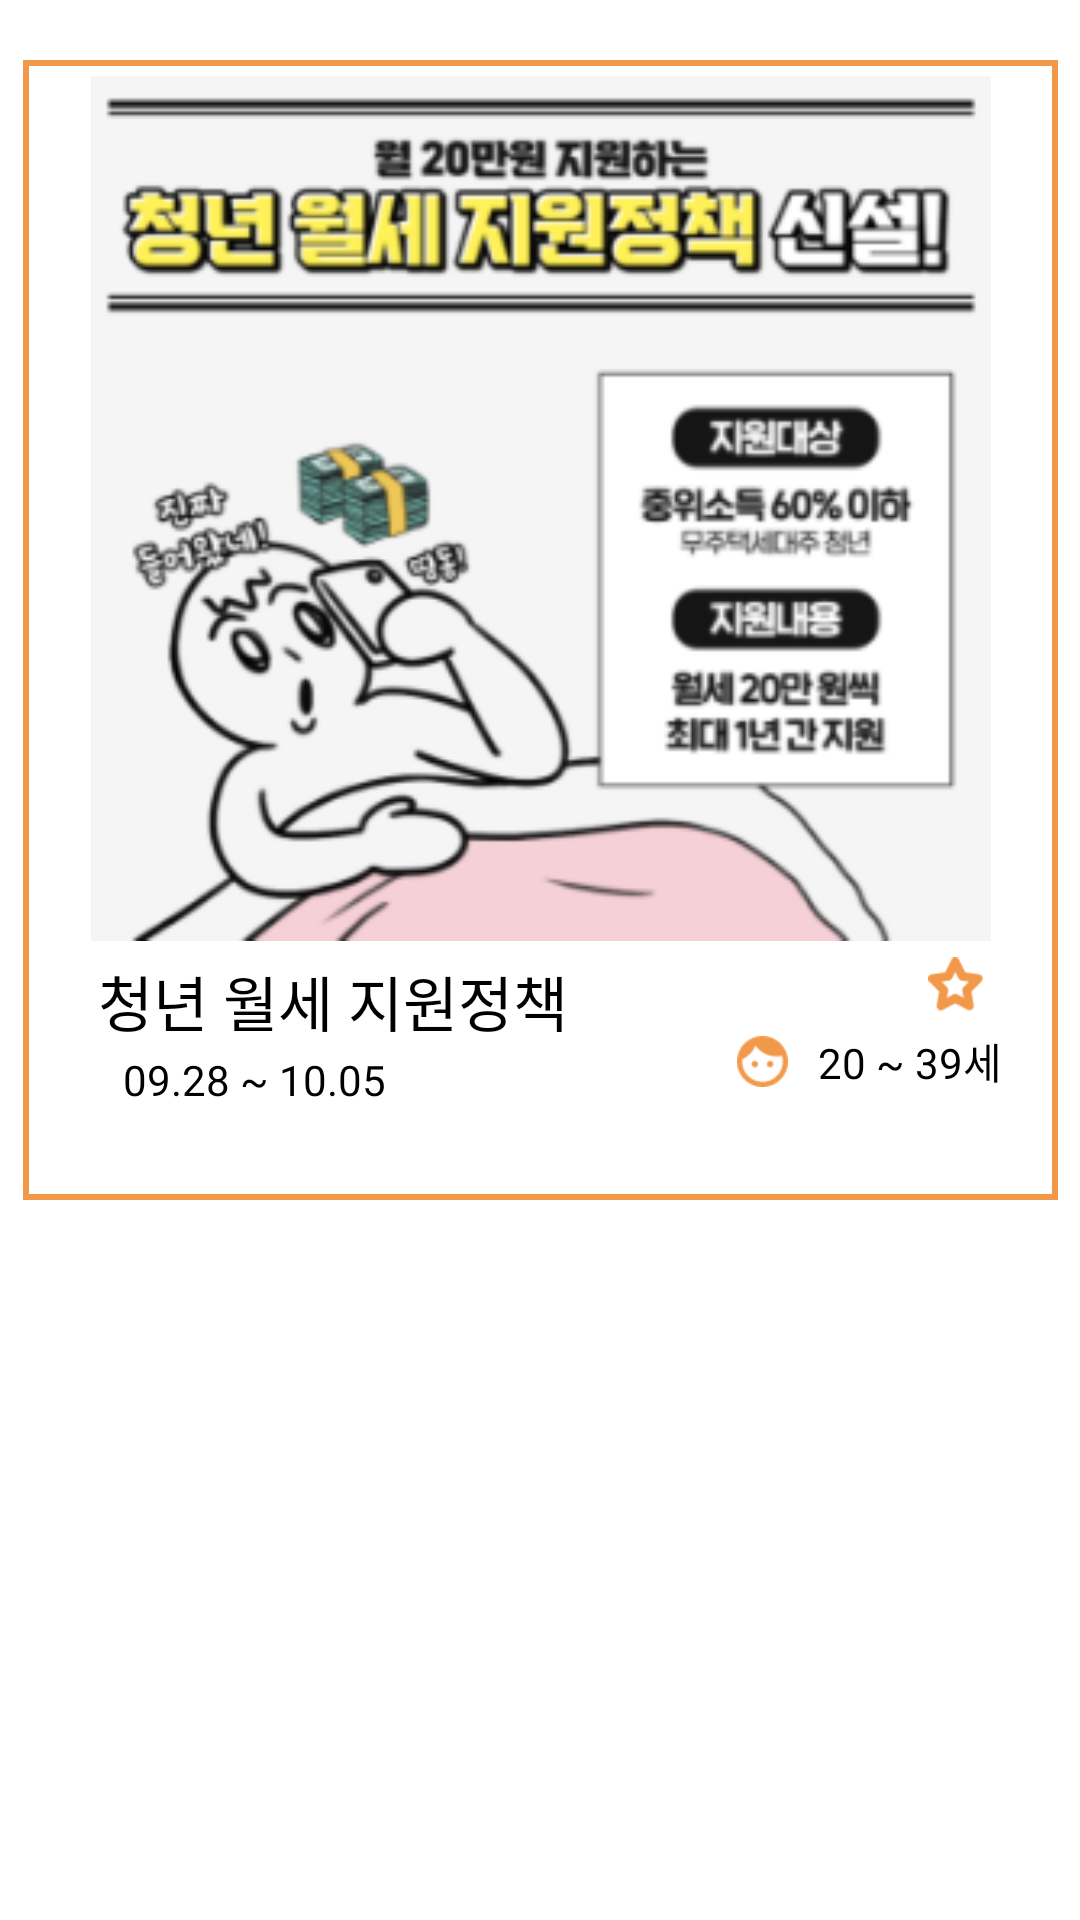

Screen size 1080px x 1920px. Icon name, then its center in pixels as (x=x, y=y):
face: (x=762, y=1061)
feather star: (x=955, y=984)
